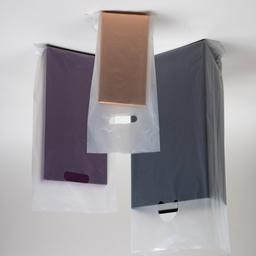plastic: (33, 12, 233, 256)
